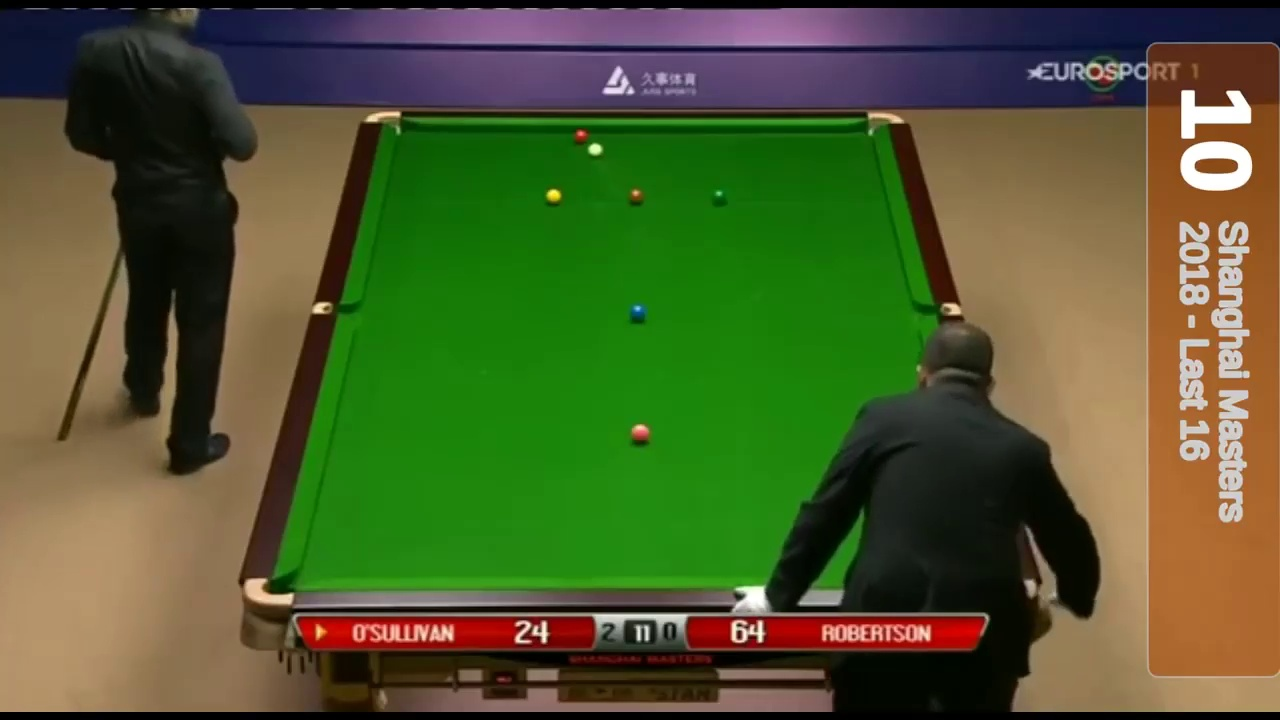ball: (628, 423, 650, 445), (629, 302, 651, 321), (627, 186, 645, 206), (544, 186, 563, 203), (710, 187, 727, 204)
